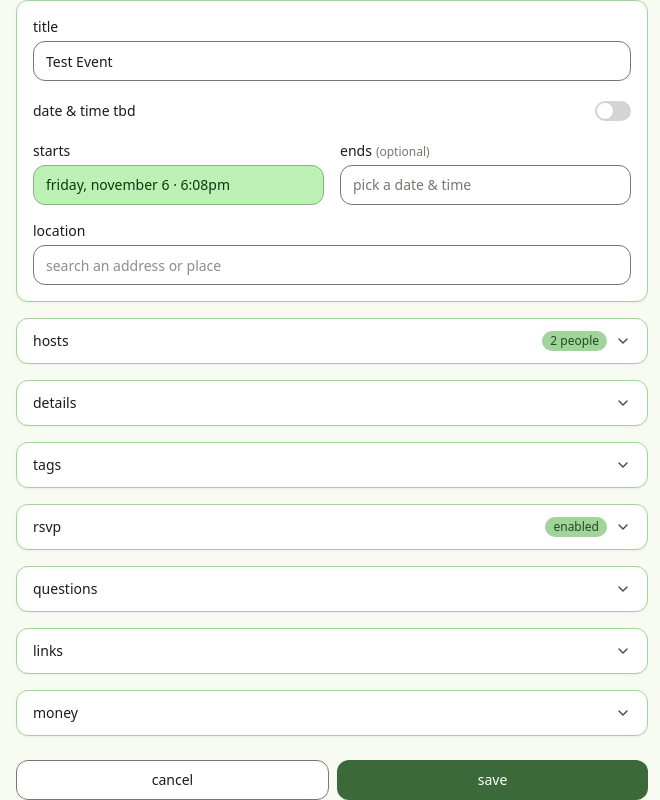
Test: EventForm hosts section › shows current co-host chips on edit instead of the staged picker
Click the button "hosts 2 people".
click(51, 340)  # box [17,319,647,363]
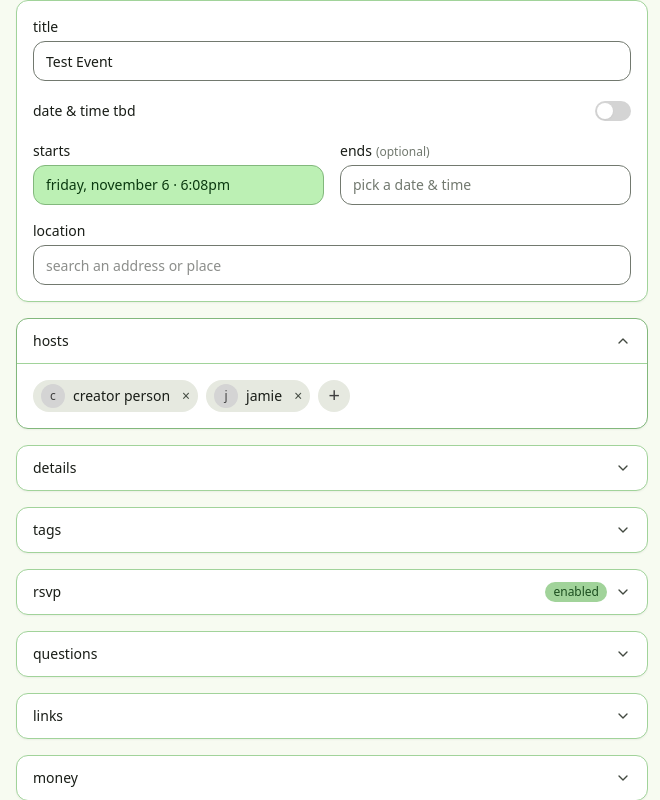
Expected: the link "j jamie" is shown, [214,384,282,408]
Expected: the button named "add co-host" is shown, [318,380,350,412]
